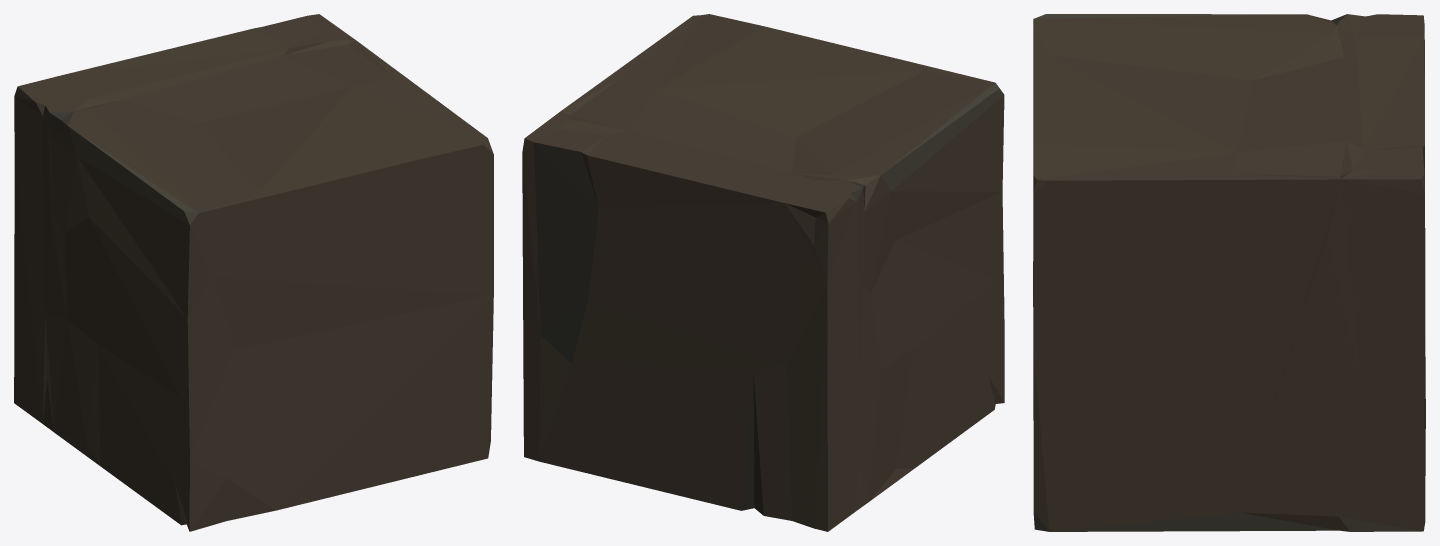
The model's file is wall.gltf.
The picture shows the model from 3 angles, left to right: view 1: azimuth 30°, elevation 25°; view 2: azimuth 150°, elevation 25°; view 3: azimuth 270°, elevation 25°; orthographic projection. The views are drawn at different scales.
Visible parts, largest first — view 1: basic_cube.006; view 2: basic_cube.006; view 3: basic_cube.006.
Part boxes in pixels (x1=…): basic_cube.006: x1=14, y1=14, x2=493, y2=531; basic_cube.006: x1=522, y1=14, x2=1004, y2=531; basic_cube.006: x1=1033, y1=14, x2=1425, y2=531.
Size of the model in its own units: 2 by 1.99 by 2.01.
Materials: 1 (1 with a texture image).
